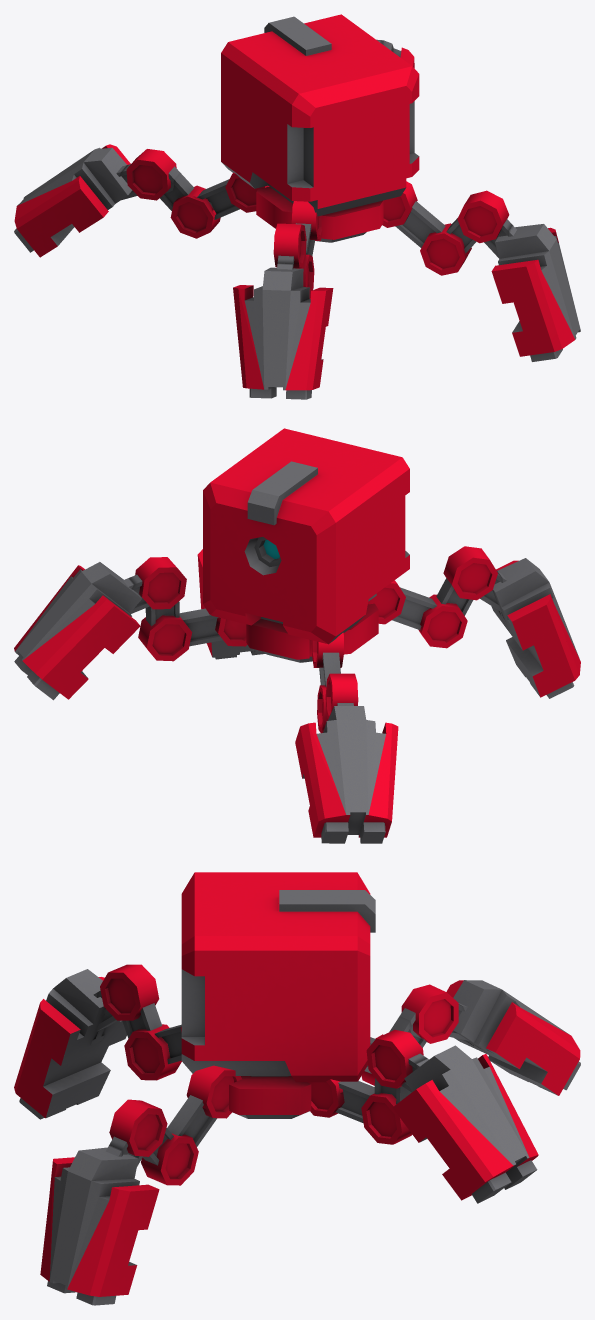
The model's file is Monster1_Move11.obj.
3 views of the same model, one above another, from view 1: azimuth 30°, elevation 25°; view 2: azimuth 150°, elevation 25°; view 3: azimuth 270°, elevation 25° (orthographic). The views are drawn at different scales.
Parts seen in each view (by area): view 1: Box006, Object021, Object017, Object025, Object027, Object020, Object028, Object018, Object019, Object026, Object024, Object022; view 2: Box006, Object025, Object013, Object021, Object024, Object016, Object023, Object015, Object022, Object014, Object028, Object026 (+1 smaller); view 3: Box006, Object017, Object013, Object021, Object025, Object018, Object020, Object024, Object023, Object016, Object028, Object019 (+4 smaller).
Boxes of the visible parts, <box> form: Box006: <box>221,14,419,242</box>; Object021: <box>233,267,333,399</box>; Object017: <box>491,224,580,361</box>; Object025: <box>14,144,132,257</box>; Object027: <box>160,166,220,238</box>; Object020: <box>457,190,516,258</box>; Object028: <box>116,149,176,200</box>; Object018: <box>382,181,445,247</box>; Object019: <box>420,218,476,275</box>; Object026: <box>197,172,269,219</box>; Object024: <box>273,223,306,269</box>; Object022: <box>291,201,322,255</box>; Box006: <box>203,428,409,662</box>; Object025: <box>295,706,398,843</box>; Object013: <box>14,562,141,700</box>; Object021: <box>491,558,580,698</box>; Object024: <box>443,546,506,611</box>; Object016: <box>123,557,186,613</box>; Object023: <box>418,578,473,648</box>; Object015: <box>138,601,192,661</box>; Object022: <box>368,580,436,629</box>; Object014: <box>179,608,247,646</box>; Object028: <box>325,673,358,719</box>; Object026: <box>311,632,343,686</box>; Box006: <box>181,872,375,1118</box>; Object017: <box>40,1147,159,1305</box>; Object013: <box>392,1045,538,1203</box>; Object021: <box>14,969,126,1119</box>; Object025: <box>446,980,580,1095</box>; Object018: <box>167,1065,241,1146</box>; Object020: <box>105,1099,167,1166</box>; Object024: <box>93,964,159,1031</box>; Object023: <box>122,1003,181,1080</box>; Object016: <box>366,1029,428,1092</box>; Object028: <box>401,984,468,1043</box>; Object019: <box>141,1128,198,1185</box>.
Bounding box in the file's own units: 157 × 110 × 177.
